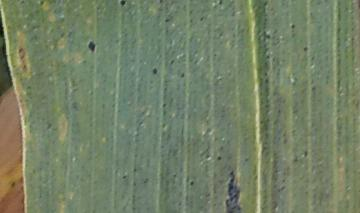tarspot: (223, 170, 244, 213), (86, 39, 99, 55), (184, 176, 198, 190), (287, 21, 300, 33), (262, 31, 275, 42), (299, 148, 312, 159), (150, 66, 161, 78), (308, 83, 319, 93), (198, 13, 207, 25), (214, 154, 226, 162), (178, 71, 187, 81), (301, 44, 310, 54), (159, 101, 169, 110), (118, 1, 129, 8), (162, 16, 170, 24), (121, 172, 128, 181), (214, 1, 226, 6)
